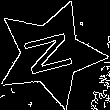N_E: (19, 28, 81, 80)
